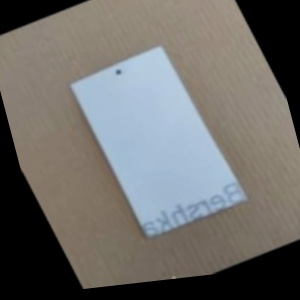bershka: (174, 71, 300, 266)
